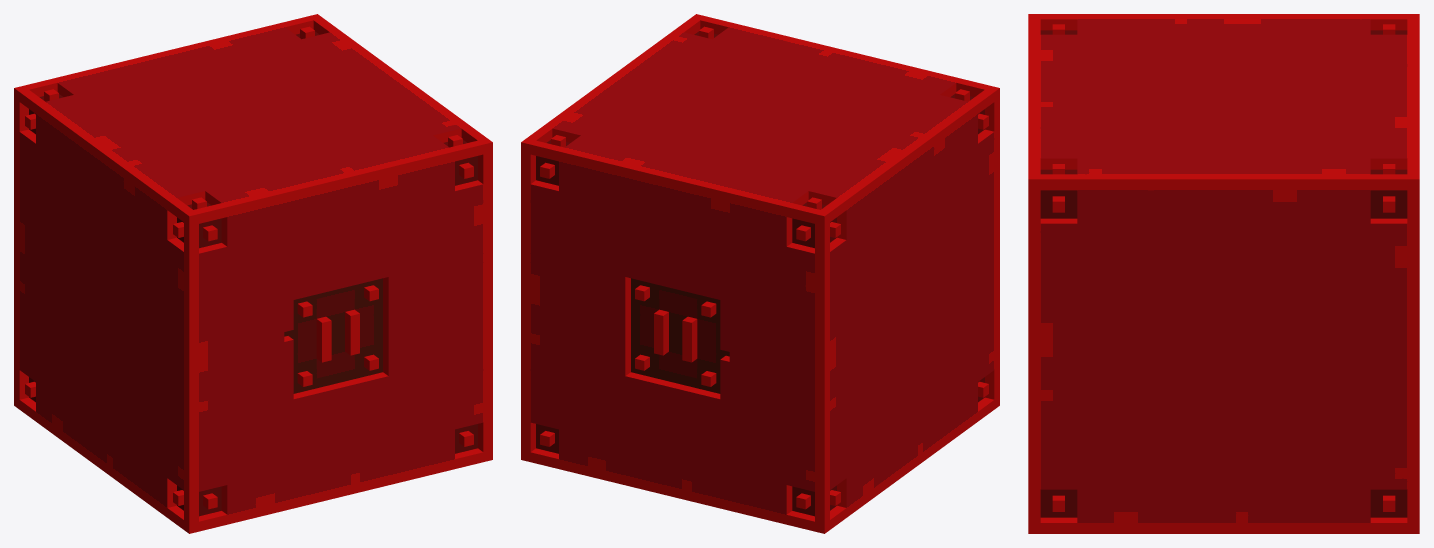
File: lava_spin_2x2ao.fezao.glb
The picture shows the model from 3 angles, left to right: view 1: azimuth 30°, elevation 25°; view 2: azimuth 150°, elevation 25°; view 3: azimuth 270°, elevation 25°; orthographic projection. The views are drawn at different scales.
Parts seen in each view (by area): view 1: LAVA_SPIN_2X2AO; view 2: LAVA_SPIN_2X2AO; view 3: LAVA_SPIN_2X2AO.
Part boxes in pixels (x1,y1,x2,y2): LAVA_SPIN_2X2AO: (14,14,492,533); LAVA_SPIN_2X2AO: (521,14,999,533); LAVA_SPIN_2X2AO: (1028,14,1419,533).
Size of the model in its own units: 2 by 2 by 2.
Materials: 1 (1 with a texture image).
